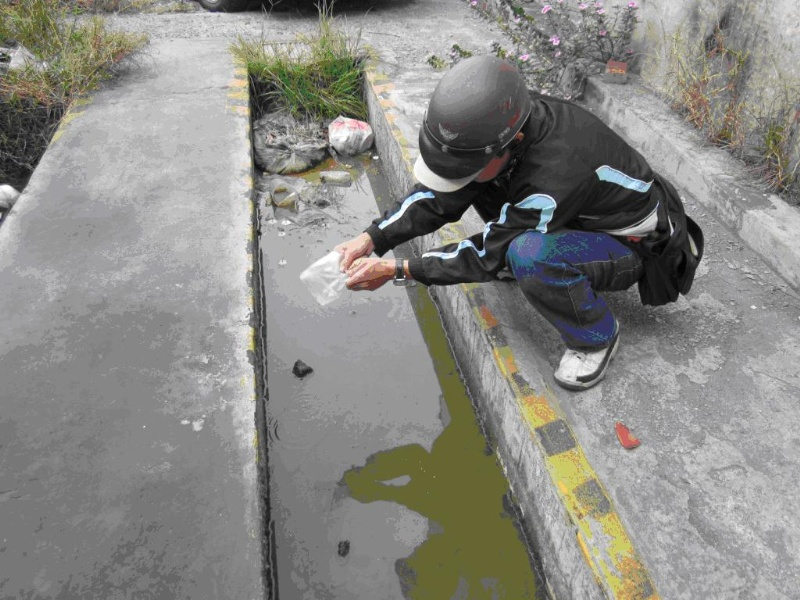plastic_bag: (250, 112, 329, 173), (328, 114, 374, 155)
